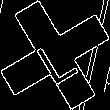L_NW: (28, 25, 82, 85)
